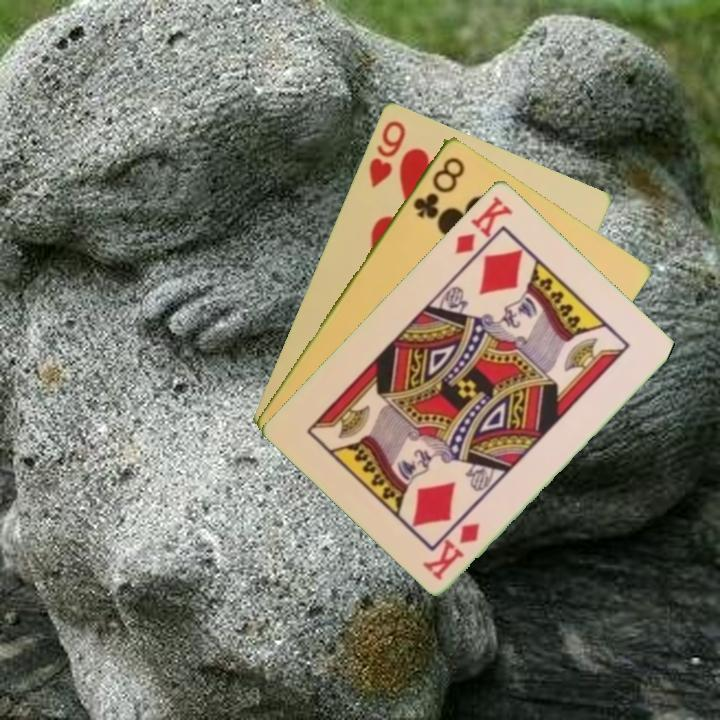8c: (409, 152, 468, 222)
9h: (365, 116, 409, 190)
Kd: (451, 192, 516, 257), (420, 518, 483, 583)
